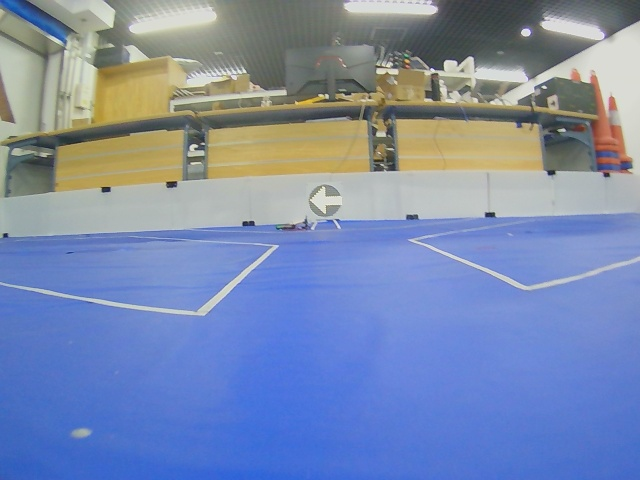left_yellow: (309, 185, 343, 217)
